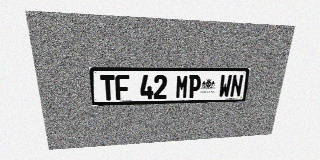2: (154, 75, 167, 99)
4: (140, 75, 153, 99)
F: (115, 75, 130, 100)
M: (175, 75, 189, 99)
N: (229, 75, 244, 97)
P: (188, 75, 201, 98)
T: (100, 75, 116, 100)
W: (218, 75, 232, 97)
